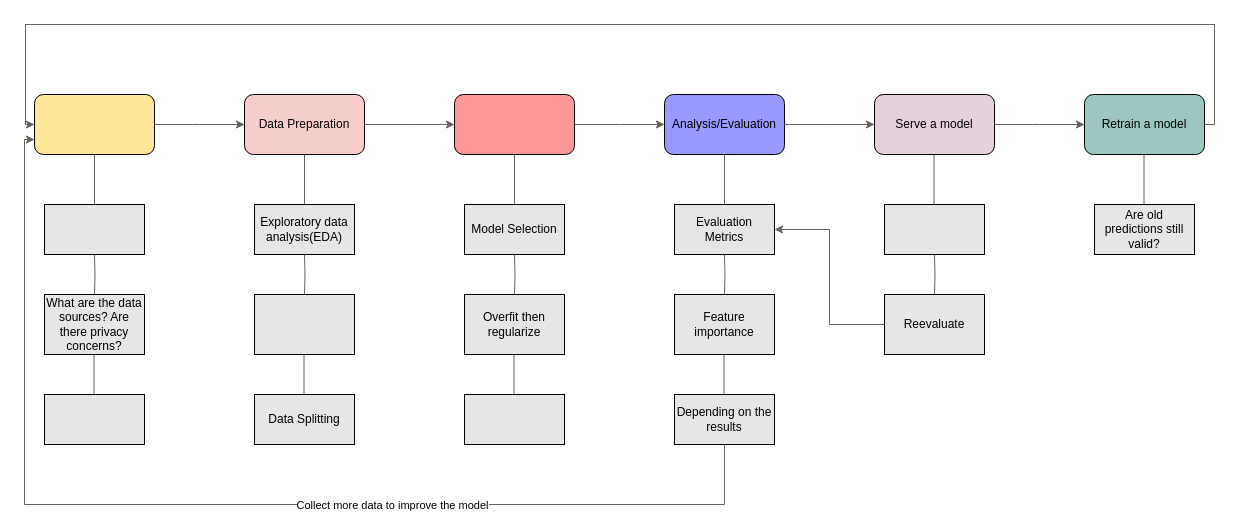
Some shapes in this 1240 by 530 pixel diagram are drawn without their labels. Here are the shapes that lost their labels. From the top down, the centre of each, then its label:
(x=94, y=124): Data Collection
(x=514, y=124): Train a model
(x=94, y=229): What data exists?
(x=934, y=229): Put the model in production
(x=304, y=324): Data Preprocessing
(x=94, y=419): Is it structured or unstructured?
(x=514, y=419): Tune hyperparameters
